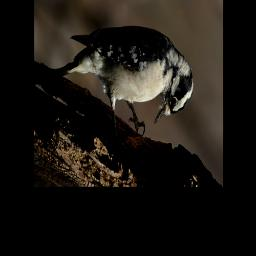Woodpecker: (50, 26, 193, 137)
